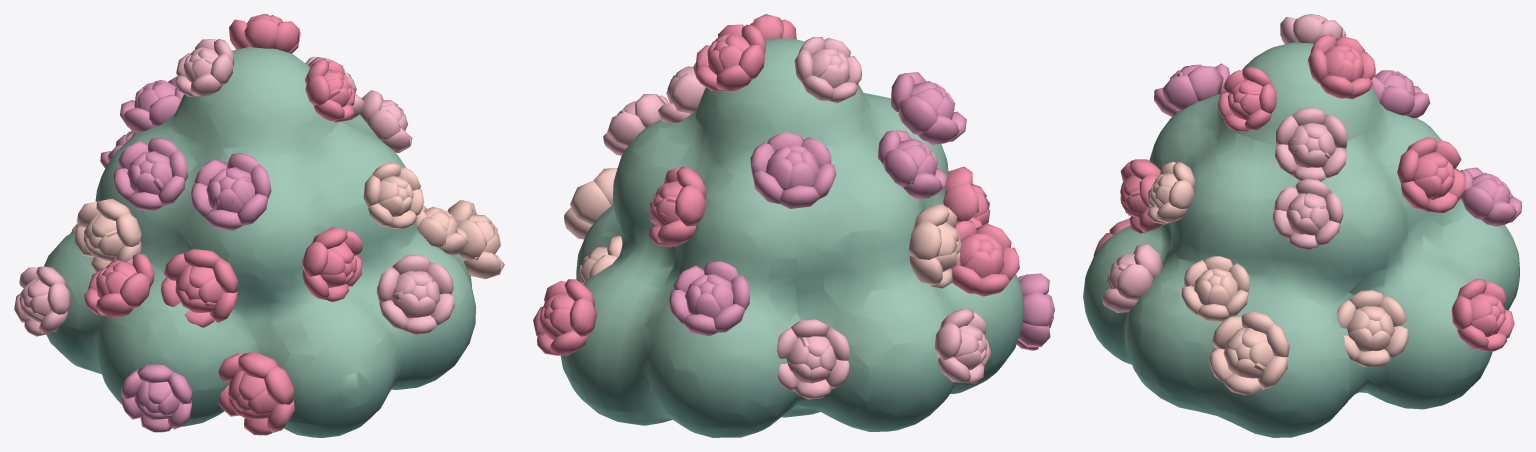
Rendered from rose-bush.glb.
The picture shows the model from 3 angles, left to right: view 1: azimuth 30°, elevation 25°; view 2: azimuth 150°, elevation 25°; view 3: azimuth 270°, elevation 25°; orthographic projection. The views are drawn at different scales.
Visible parts, largest first — view 1: rose-bush; view 2: rose-bush; view 3: rose-bush.
Part boxes in pixels (bbox=[...]): rose-bush: bbox=[14, 14, 504, 437]; rose-bush: bbox=[533, 14, 1054, 437]; rose-bush: bbox=[1083, 14, 1521, 437].
Size of the model in its own units: 1.45 by 1.13 by 1.3.
